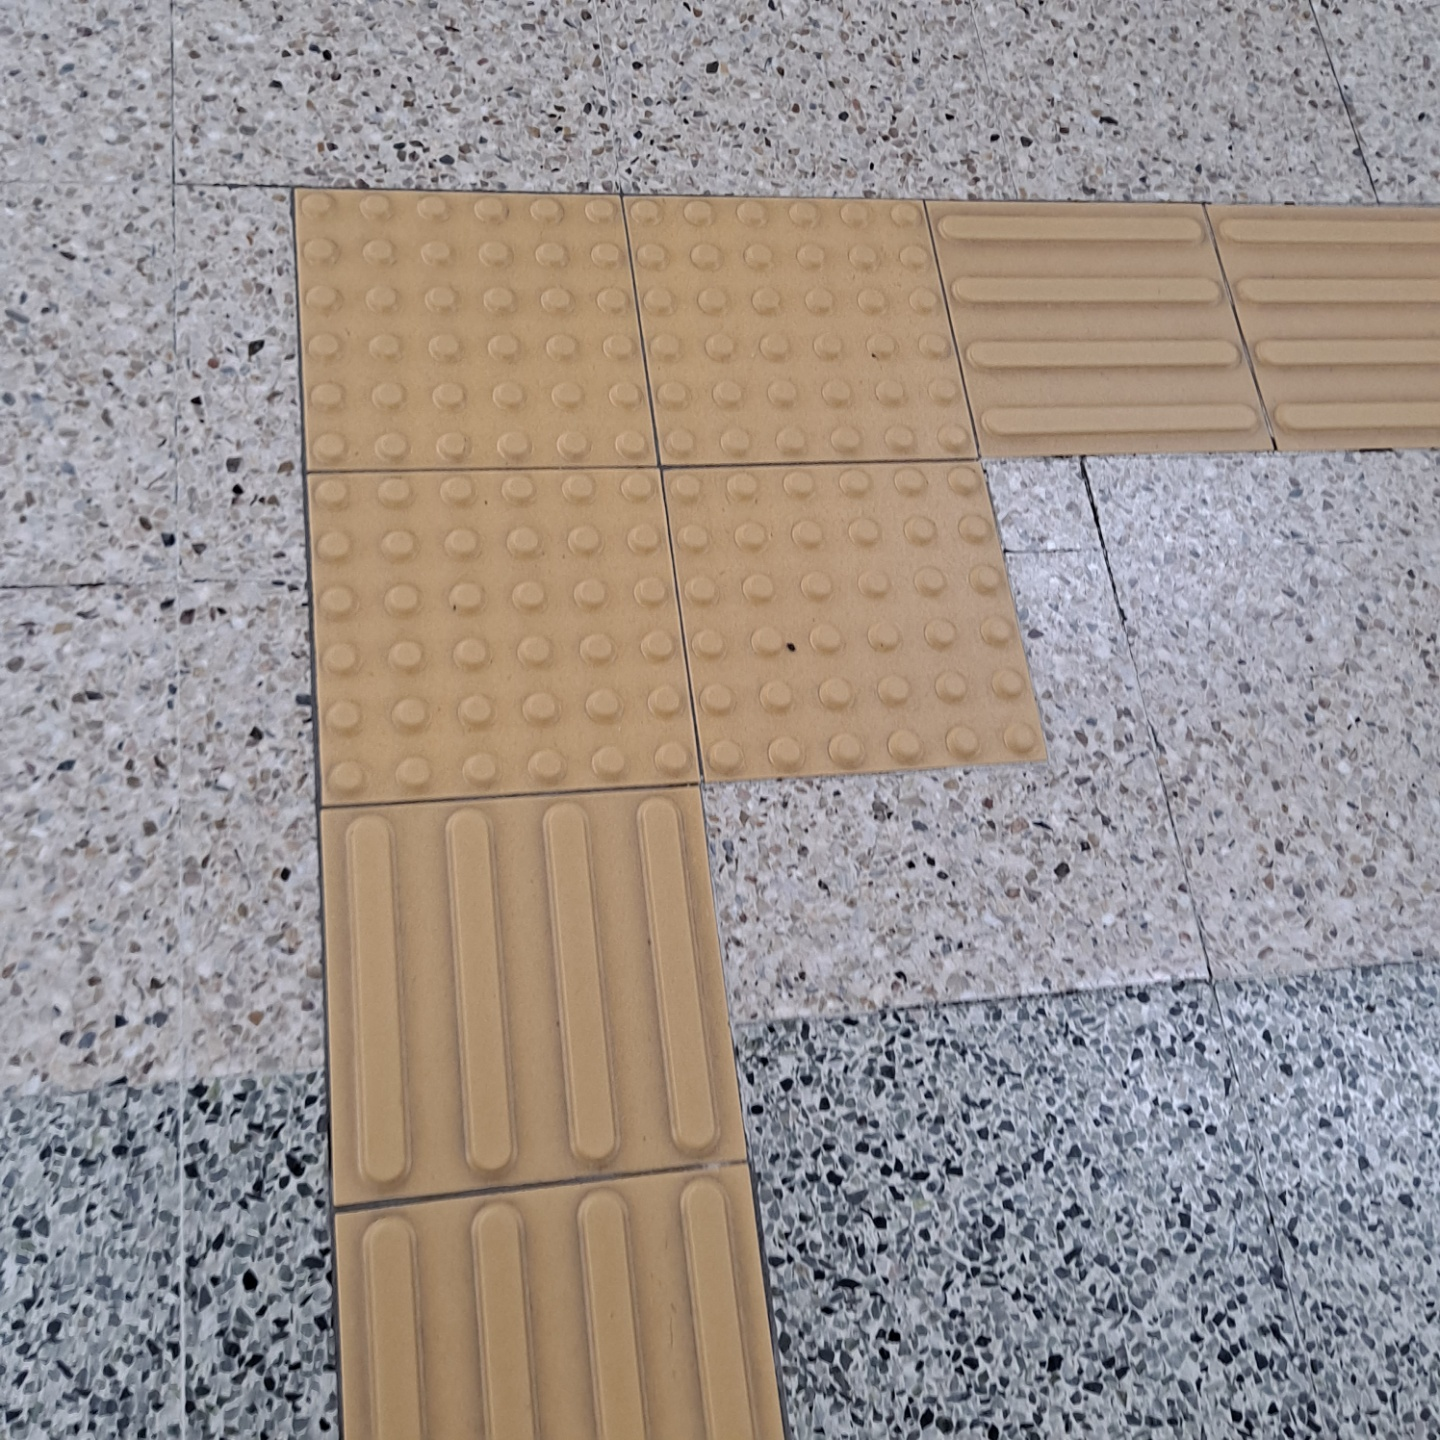guideBlock: (315, 827, 757, 1158), (344, 1185, 818, 1440), (978, 193, 1251, 480), (1234, 175, 1440, 458)
warningBlock: (667, 435, 1031, 767), (305, 456, 669, 787), (316, 170, 657, 468), (617, 195, 963, 485)
